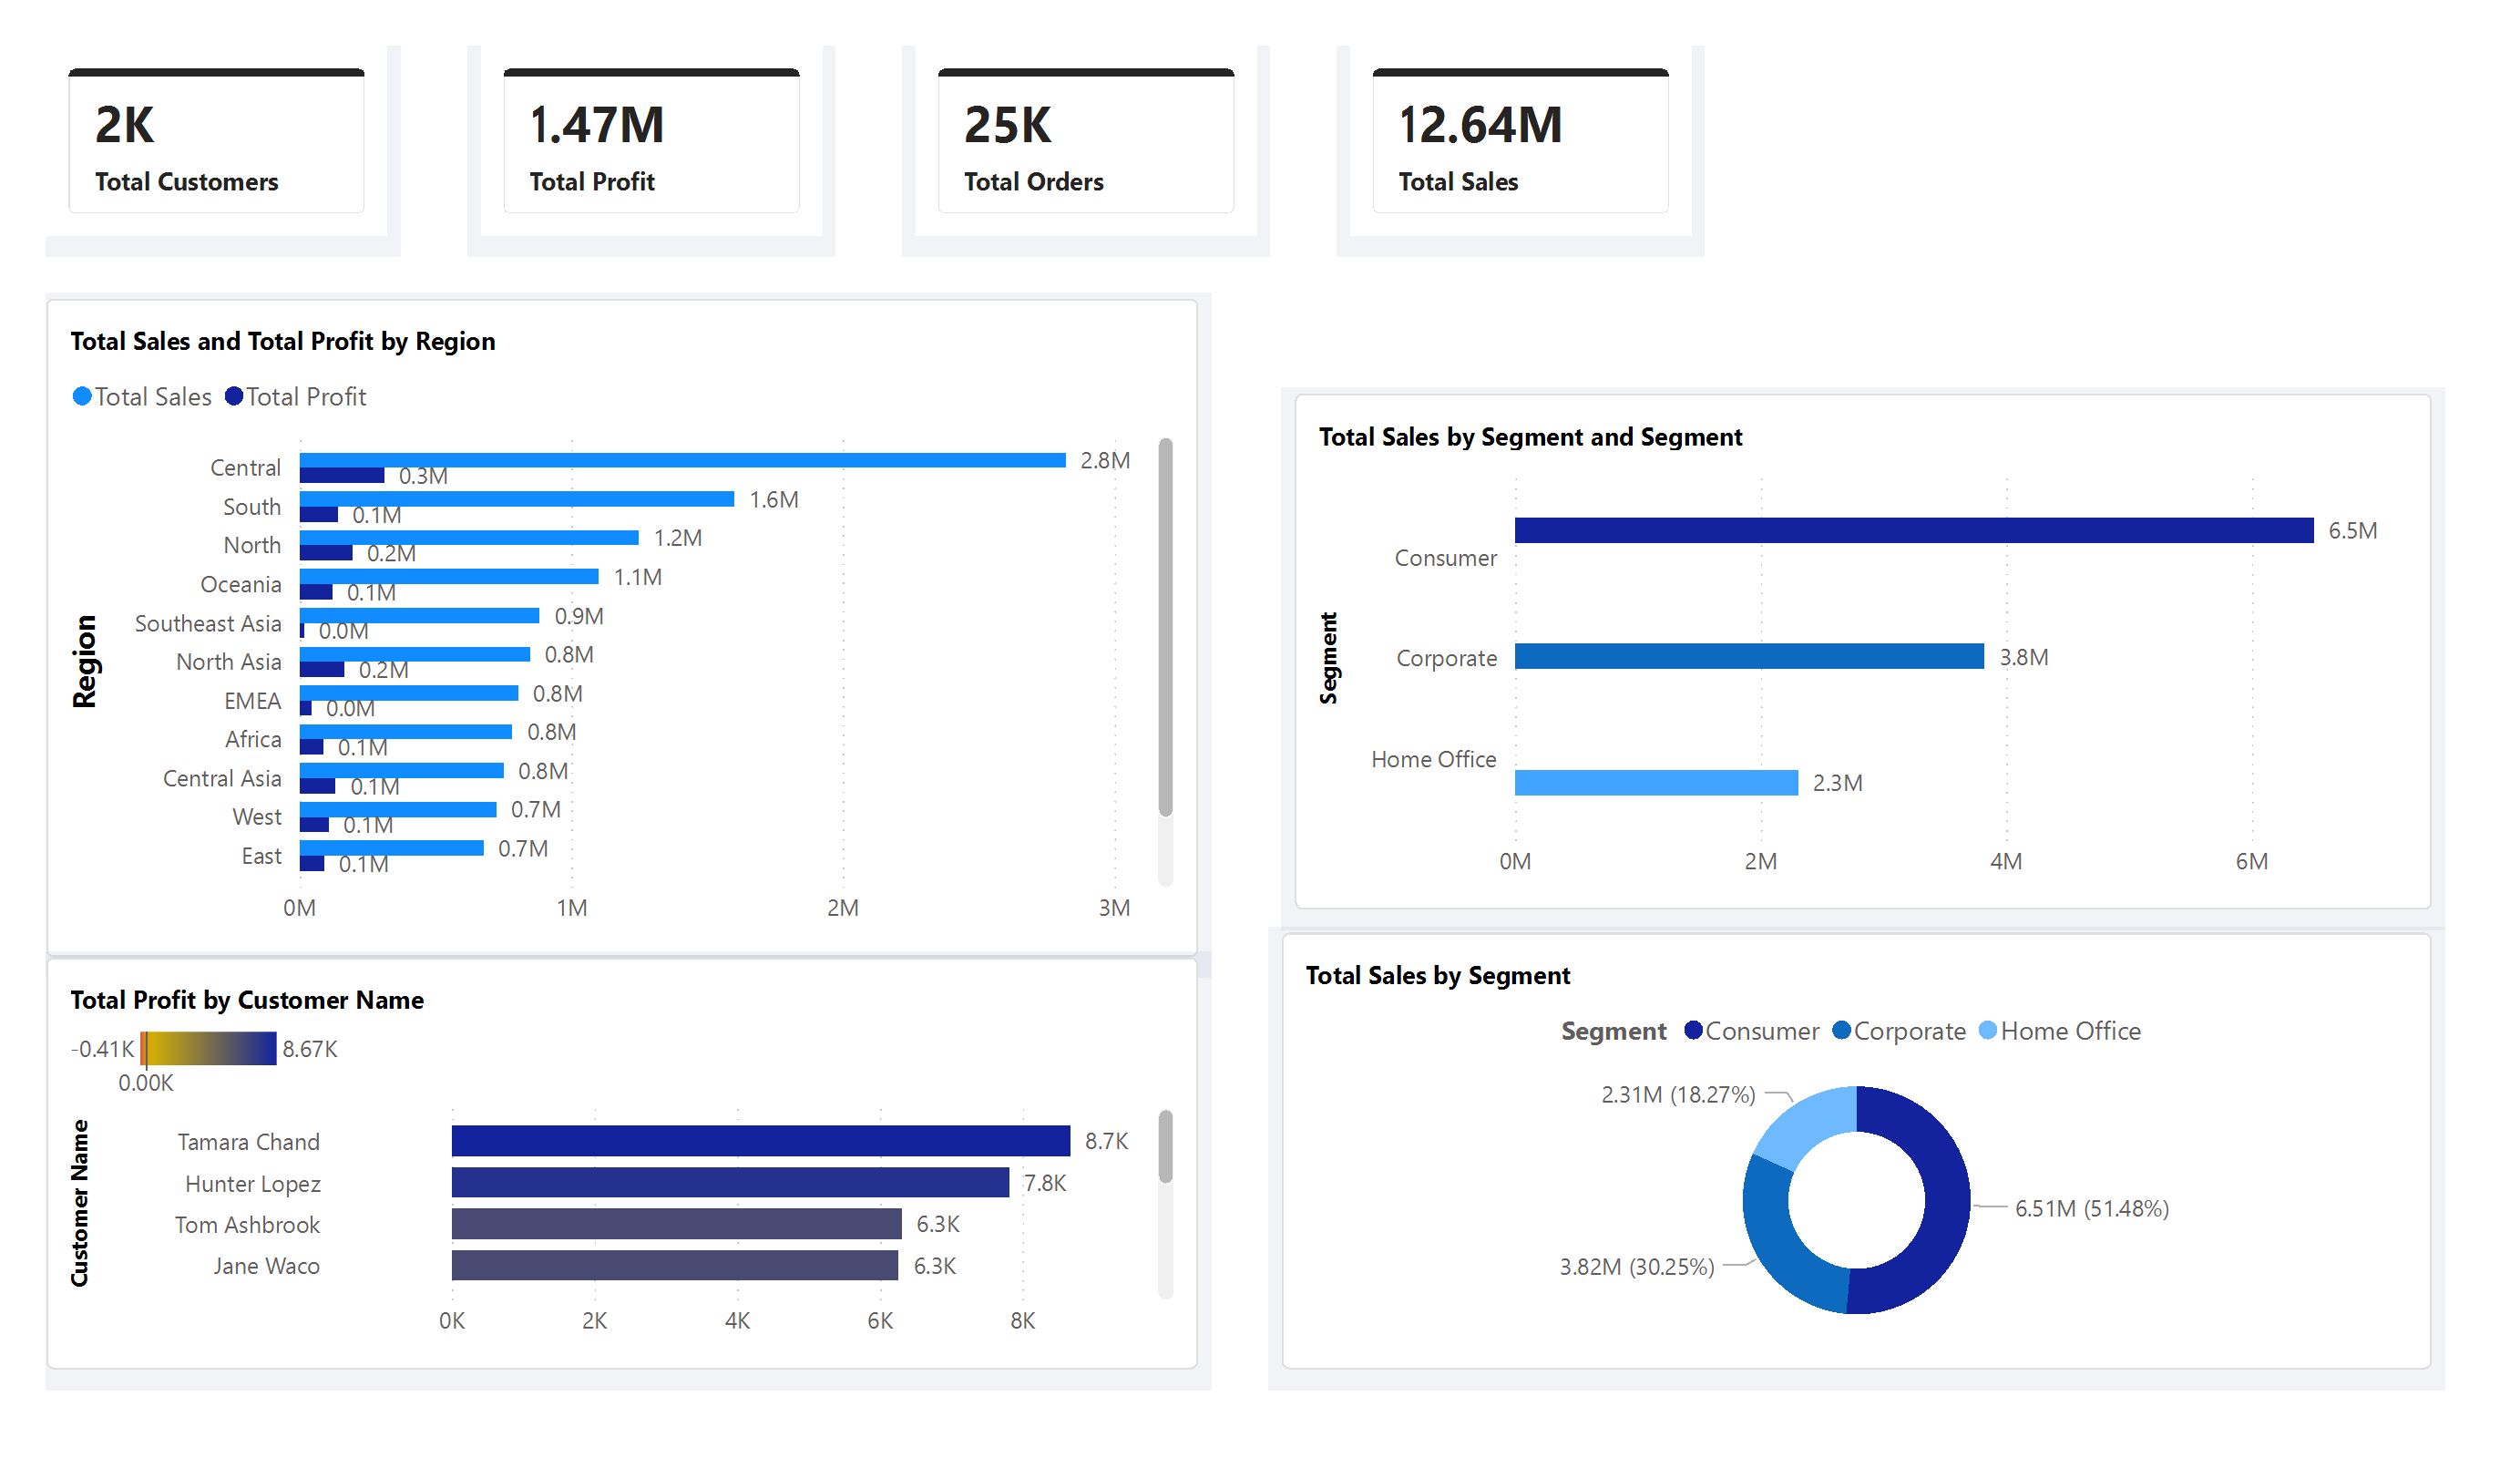

This screenshot's page, from the dashboard's own definition file:
{"tool":"powerbi","page":{"name":"Customer & Geographic Analysis","canvas":[1280,720],"ordinal":4},"visuals":[{"type":"cardVisual","fields":{"Data":["KPI.Total Customers"]},"box":[0,0,180,100],"z":0},{"type":"cardVisual","fields":{"Data":["KPI.Total Profit"]},"box":[229.2,0,179.8,100.3],"z":1000},{"type":"cardVisual","fields":{"Data":["KPI.Total Orders"]},"box":[458.1,0,179.8,100.3],"z":2000},{"type":"cardVisual","fields":{"Data":["KPI.Total Sales"]},"box":[687,0,179.8,100.3],"z":3000},{"type":"clusteredBarChart","fields":{"Y":["KPI.Total Sales","KPI.Total Profit"],"Category":["Superstore.Region"]},"box":[0,132.6,606.5,347.3],"z":4000},{"type":"clusteredBarChart","fields":{"Category":["Superstore.Segment"],"Y":["KPI.Total Sales"],"Series":["Superstore.Segment"]},"box":[657.9,183.4,598.7,272],"z":5000},{"type":"donutChart","fields":{"Y":["KPI.Total Sales"],"Category":["Superstore.Segment"]},"box":[650.5,467.1,606.5,229.9],"z":6000},{"type":"clusteredBarChart","fields":{"Category":["Superstore.Customer Name"],"Y":["KPI.Total Profit"]},"box":[0,480,607,217],"z":6001}]}

Visuals, with their boxes on the page's 1280x720 design canvas (x1, y1, x2, y2). These are canvas units, not pixel positions in the 2520x1458 screenshot, which may show the page scaled, cropped or inside an application window:
cardVisual - KPI.Total Customers: x1=0, y1=0, x2=180, y2=100
cardVisual - KPI.Total Profit: x1=229, y1=0, x2=409, y2=100
cardVisual - KPI.Total Orders: x1=458, y1=0, x2=638, y2=100
cardVisual - KPI.Total Sales: x1=687, y1=0, x2=867, y2=100
clusteredBarChart - KPI.Total Sales x KPI.Total Profit: x1=0, y1=133, x2=606, y2=480
clusteredBarChart - Superstore.Segment x KPI.Total Sales: x1=658, y1=183, x2=1257, y2=455
donutChart - KPI.Total Sales x Superstore.Segment: x1=650, y1=467, x2=1257, y2=697
clusteredBarChart - Superstore.Customer Name x KPI.Total Profit: x1=0, y1=480, x2=607, y2=697
